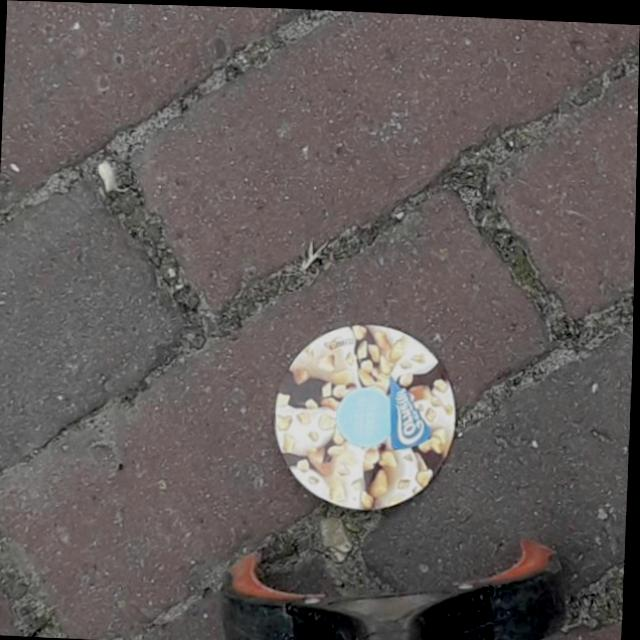Paper: (268, 314, 464, 512)
